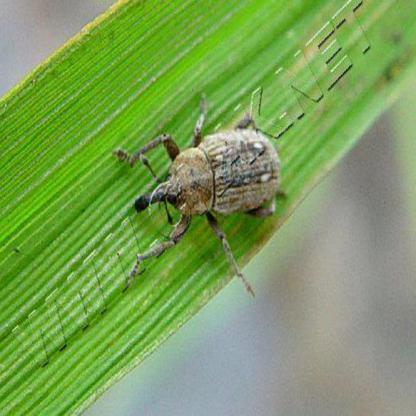rice-bug: (132, 110, 285, 267)
